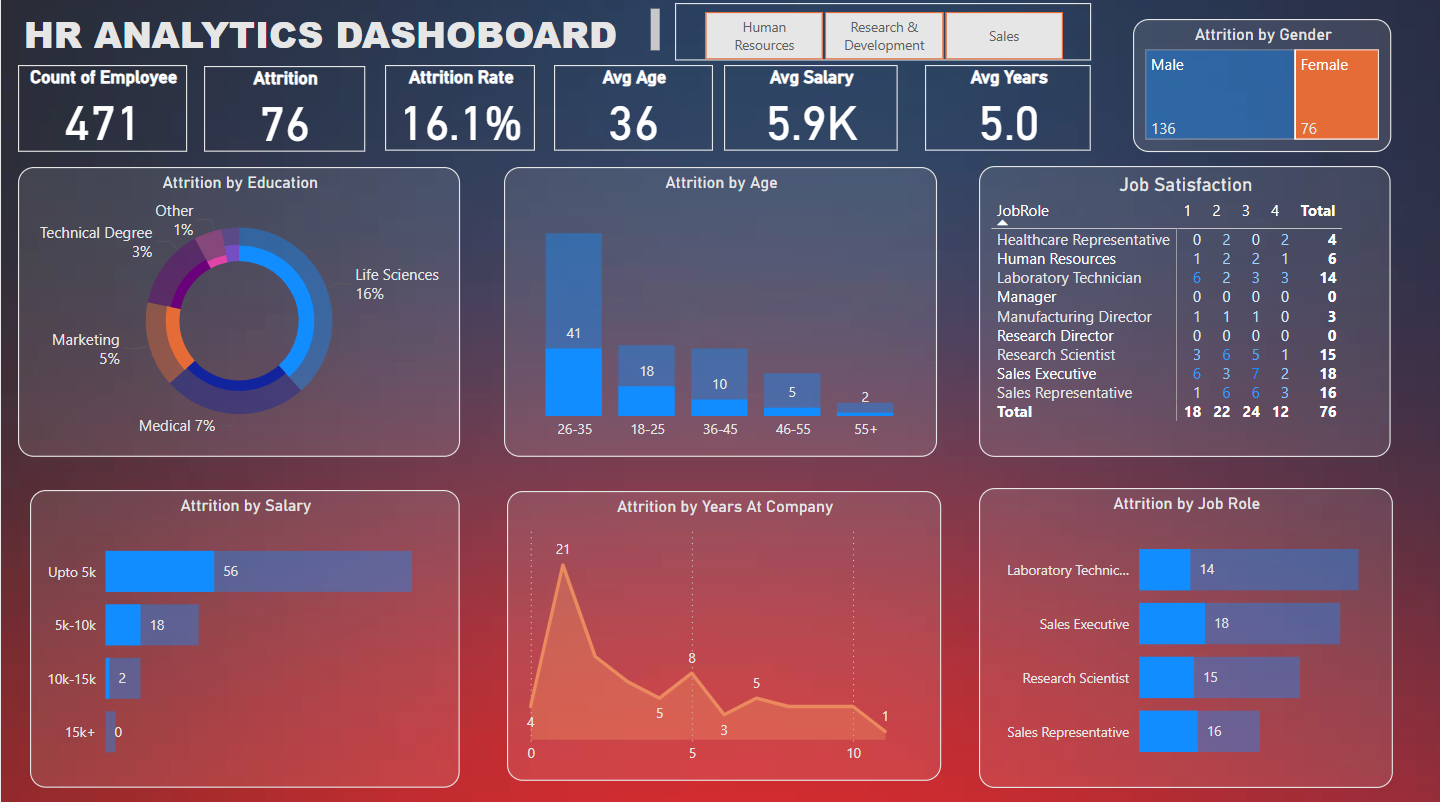

What the dashboard file says about the page in this screenshot:
{"tool":"powerbi","page":{"name":"Page 1","canvas":[1280,720],"ordinal":0},"visuals":[{"type":"card","title":"Count of Employee","fields":{"Values":["Count(HR_Analytics.EmpID)"]},"box":[14.8,62.1,150.2,76.9],"z":0},{"type":"card","title":"Attrition","fields":{"Values":["Sum(HR_Analytics.AttritionCount)"]},"box":[179.8,63,142.7,76],"z":1000},{"type":"card","title":"Avg Age","fields":{"Values":["Avg(HR_Analytics.Age)"]},"box":[490.3,62.1,140.9,76],"z":2000},{"type":"card","title":"Attrition Rate","fields":{"Values":["HR_Analytics.AttritionRate"]},"box":[340.2,62.1,133.5,76],"z":3000},{"type":"card","title":"Avg Years","fields":{"Values":["Avg(HR_Analytics.YearsAtCompany)"]},"box":[819.3,62.1,147.4,76],"z":4000},{"type":"card","title":"Avg Salary","fields":{"Values":["Avg(HR_Analytics.MonthlyIncome)"]},"box":[641.4,62.1,153.9,76],"z":5000},{"type":"donutChart","title":"Attrition by Education","fields":{"Category":["HR_Analytics.EducationField"],"Y":["Sum(HR_Analytics.AttritionCount)"]},"box":[14.8,152.9,392.1,256.7],"z":6000},{"type":"columnChart","title":"Attrition by Age","fields":{"Category":["HR_Analytics.AgeGroup"],"Y":["Sum(HR_Analytics.AttritionCount)"]},"box":[445.8,152.9,383.7,256.7],"z":7000},{"type":"pivotTable","title":"Job Satisfaction","fields":{"Rows":["HR_Analytics.JobRole"],"Columns":["HR_Analytics.JobSatisfaction"],"Values":["Sum(HR_Analytics.AttritionCount)"]},"box":[867.5,152,365.2,257.7],"z":8000},{"type":"barChart","title":"Attrition by Salary","fields":{"Category":["HR_Analytics.SalarySlab"],"Y":["Sum(HR_Analytics.AttritionCount)"]},"box":[26,439.3,380.9,264.2],"z":9000},{"type":"barChart","title":"Attrition by Job Role","fields":{"Category":["HR_Analytics.JobRole"],"Y":["Sum(HR_Analytics.AttritionCount)"]},"box":[867.6,436.8,366.6,265.8],"z":10000},{"type":"areaChart","title":"Attrition by Years At Company","fields":{"Category":["HR_Analytics.YearsAtCompany"],"Y":["Sum(HR_Analytics.AttritionCount)"]},"box":[449.1,439.9,384.9,256.6],"z":11000},{"type":"treemap","title":"Attrition by Gender","fields":{"Group":["HR_Analytics.Gender"],"Values":["Sum(HR_Analytics.AttritionCount)"]},"box":[1003.8,21.3,228.9,117.7],"z":12000},{"type":"slicer","fields":{"Values":["HR_Analytics.Department"]},"box":[597.8,7.4,368.9,51],"z":13000},{"type":"textbox","box":[14.8,7.4,573.7,51],"z":14000}]}

Visuals, with their boxes in screenshot pixels (x1, y1, x2, y2), scaled from the page's 1280x720 canvas onto the 1440x802 screenshot:
"Count of Employee" card: {"left": 17, "top": 69, "right": 186, "bottom": 155}
"Attrition" card: {"left": 202, "top": 70, "right": 363, "bottom": 155}
"Avg Age" card: {"left": 552, "top": 69, "right": 710, "bottom": 154}
"Attrition Rate" card: {"left": 383, "top": 69, "right": 533, "bottom": 154}
"Avg Years" card: {"left": 922, "top": 69, "right": 1088, "bottom": 154}
"Avg Salary" card: {"left": 722, "top": 69, "right": 895, "bottom": 154}
"Attrition by Education" donutChart: {"left": 17, "top": 170, "right": 458, "bottom": 456}
"Attrition by Age" columnChart: {"left": 502, "top": 170, "right": 933, "bottom": 456}
"Job Satisfaction" pivotTable: {"left": 976, "top": 169, "right": 1387, "bottom": 456}
"Attrition by Salary" barChart: {"left": 29, "top": 489, "right": 458, "bottom": 784}
"Attrition by Job Role" barChart: {"left": 976, "top": 487, "right": 1388, "bottom": 783}
"Attrition by Years At Company" areaChart: {"left": 505, "top": 490, "right": 938, "bottom": 776}
"Attrition by Gender" treemap: {"left": 1129, "top": 24, "right": 1387, "bottom": 155}
slicer - HR_Analytics.Department: {"left": 673, "top": 8, "right": 1088, "bottom": 65}
textbox: {"left": 17, "top": 8, "right": 662, "bottom": 65}
